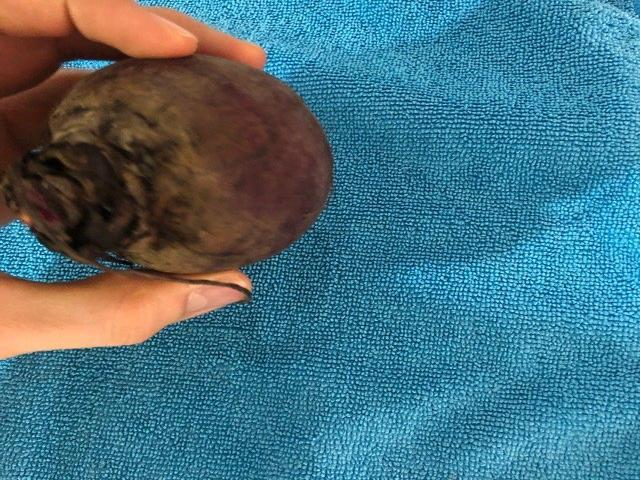beet: (6, 54, 332, 302)
